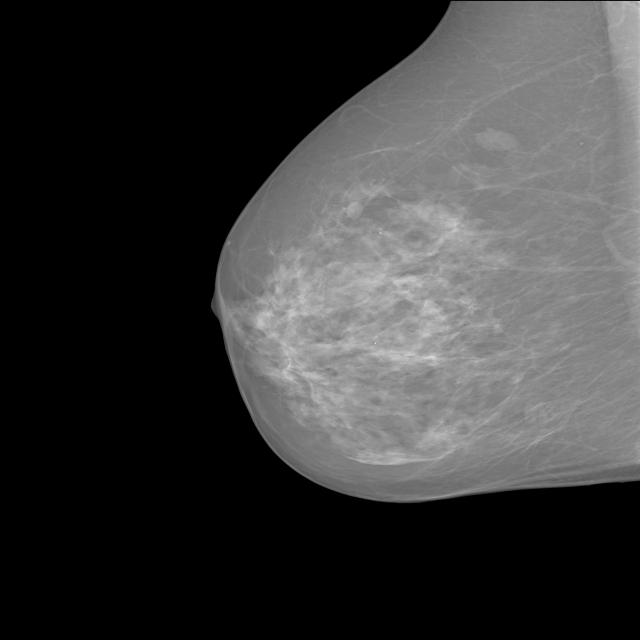Mass_1: (322, 188, 387, 233)
Mass_2: (456, 108, 534, 172)
